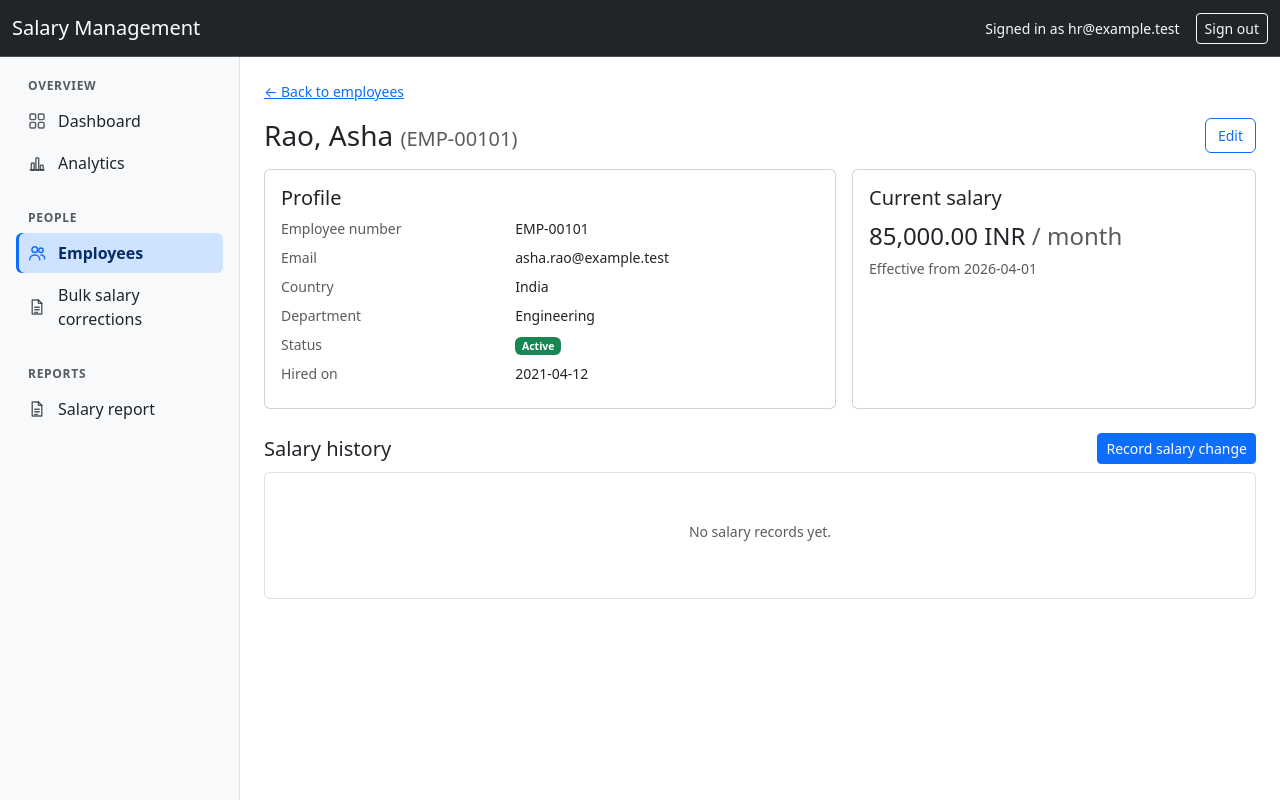
Test: EmployeeEditPage › is reached from the Edit button on the employee's page
The image size is (1280, 800).
Click the link "Edit": (1230, 136) top-left (1205, 118), bottom-right (1256, 153)
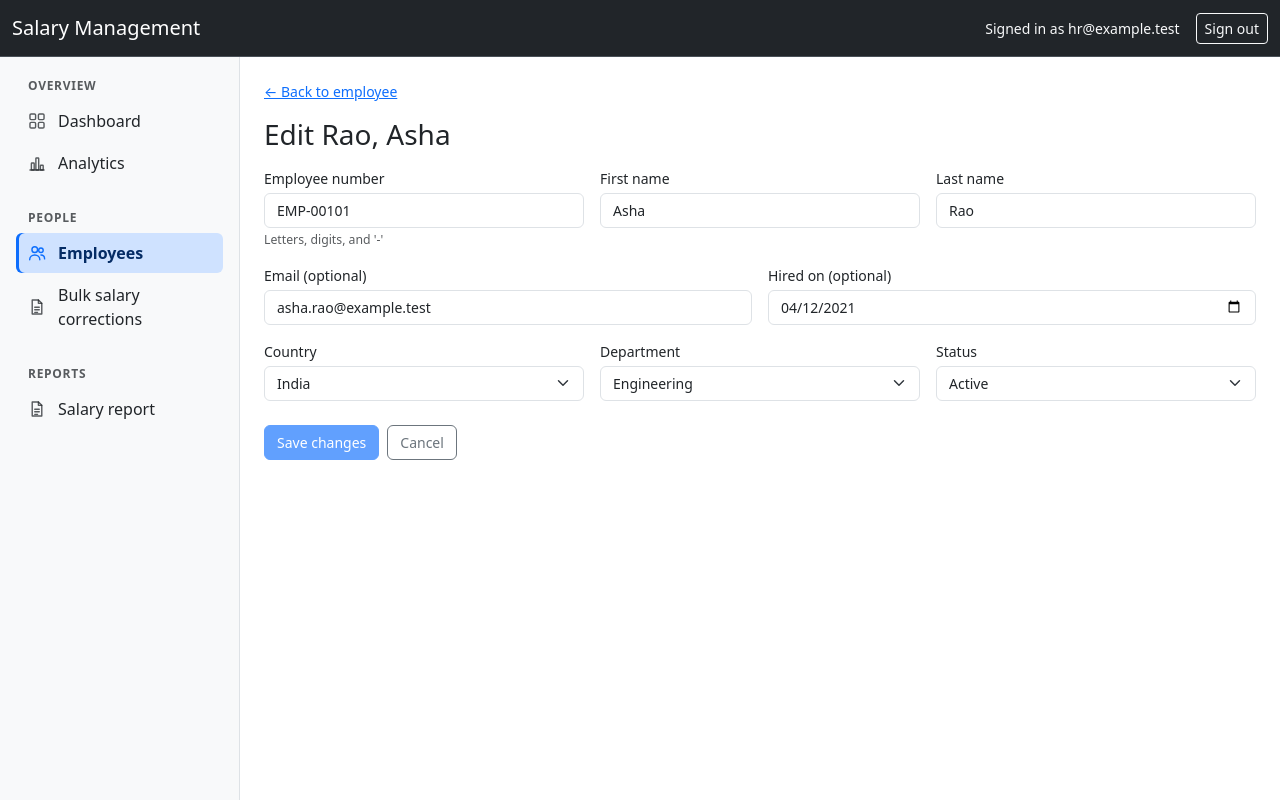
Now the heading "Edit Rao, Asha" is shown, box top-left (264, 115), bottom-right (451, 153)
